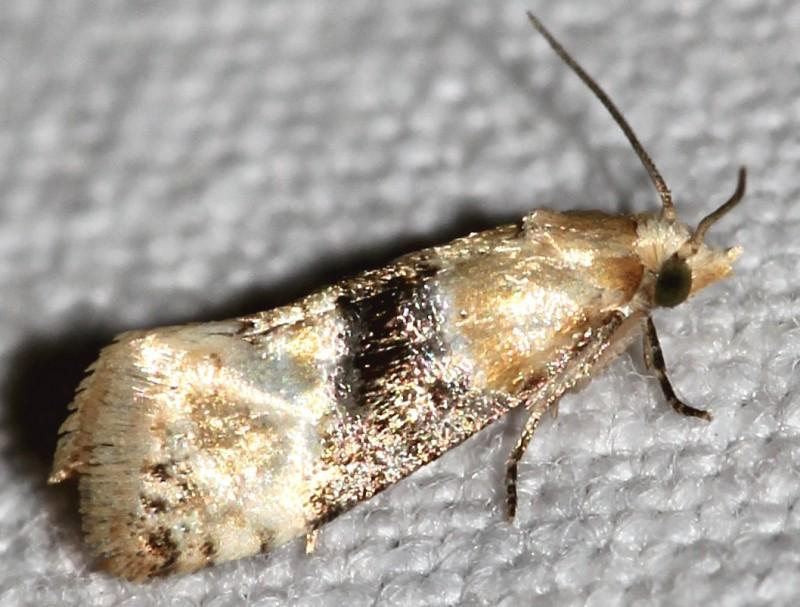Eupoecilia Ambiguella: (45, 10, 750, 584)
